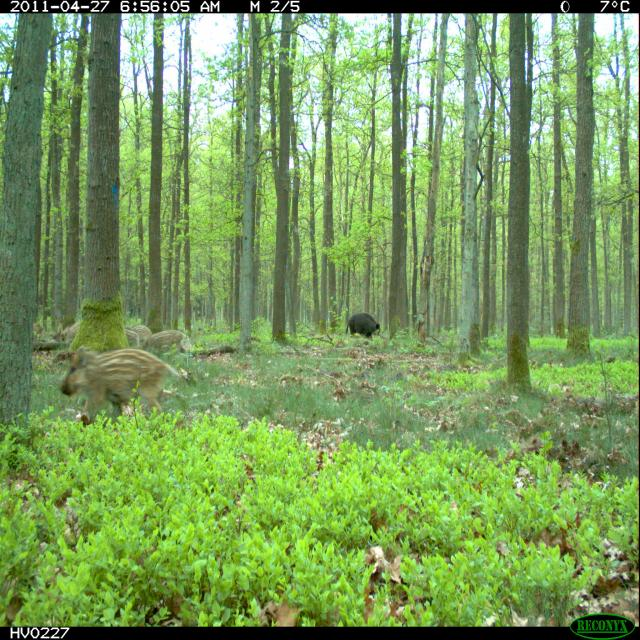boar: (43, 316, 195, 446), (339, 293, 389, 360)
